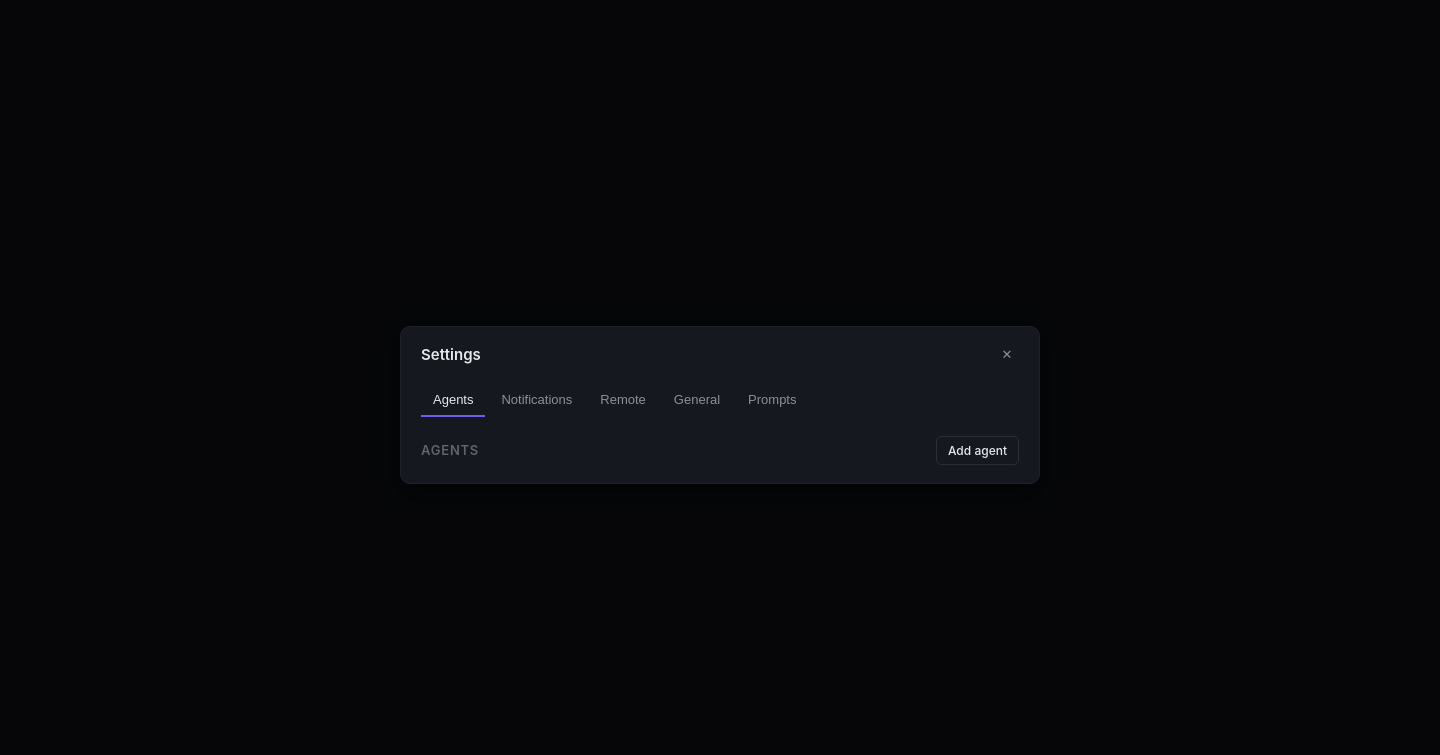
Test: SettingsModal › surfaces upsertCustomAgent errors in the UI
Click the button "Add agent" at [977, 450], box [936,436,1019,465]
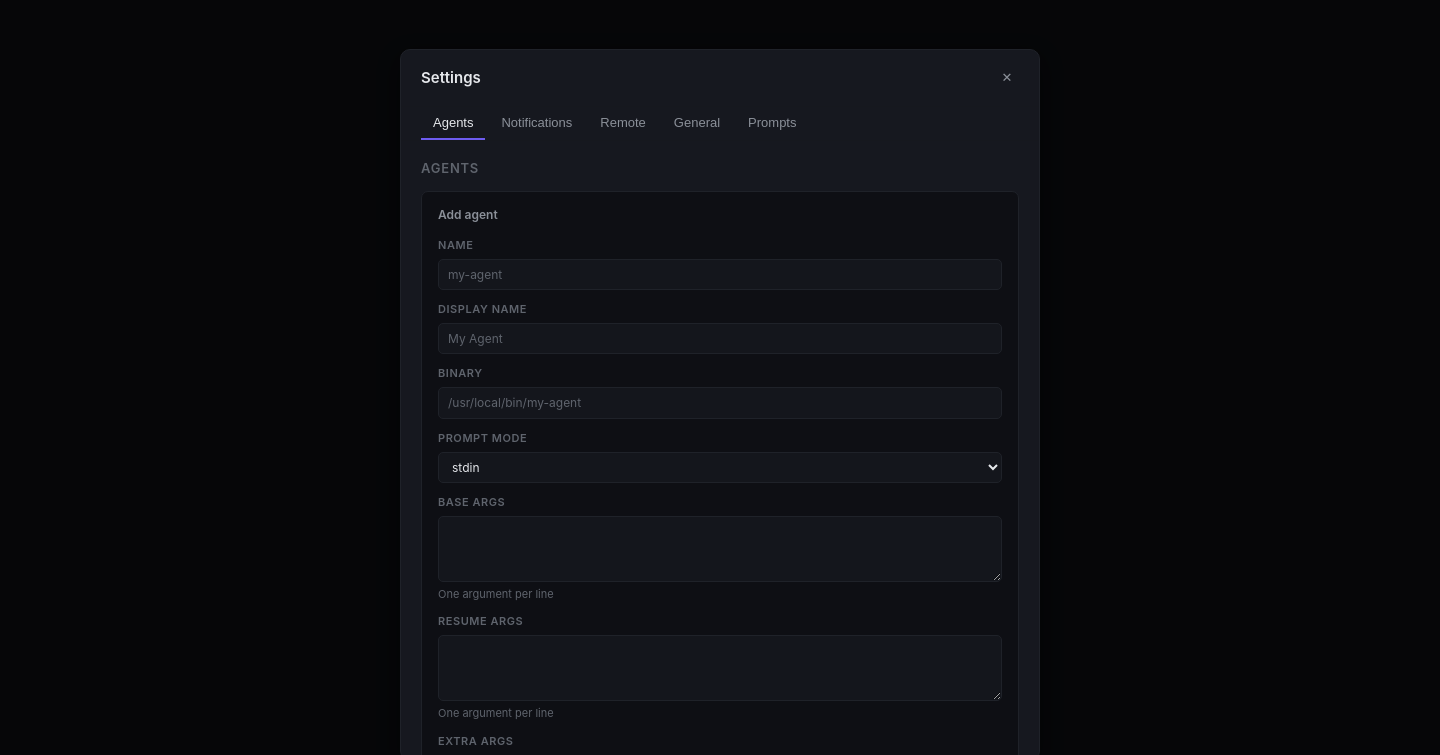
Type "claude" into the field labelled "Name" at [720, 274], box [438,259,1002,290]
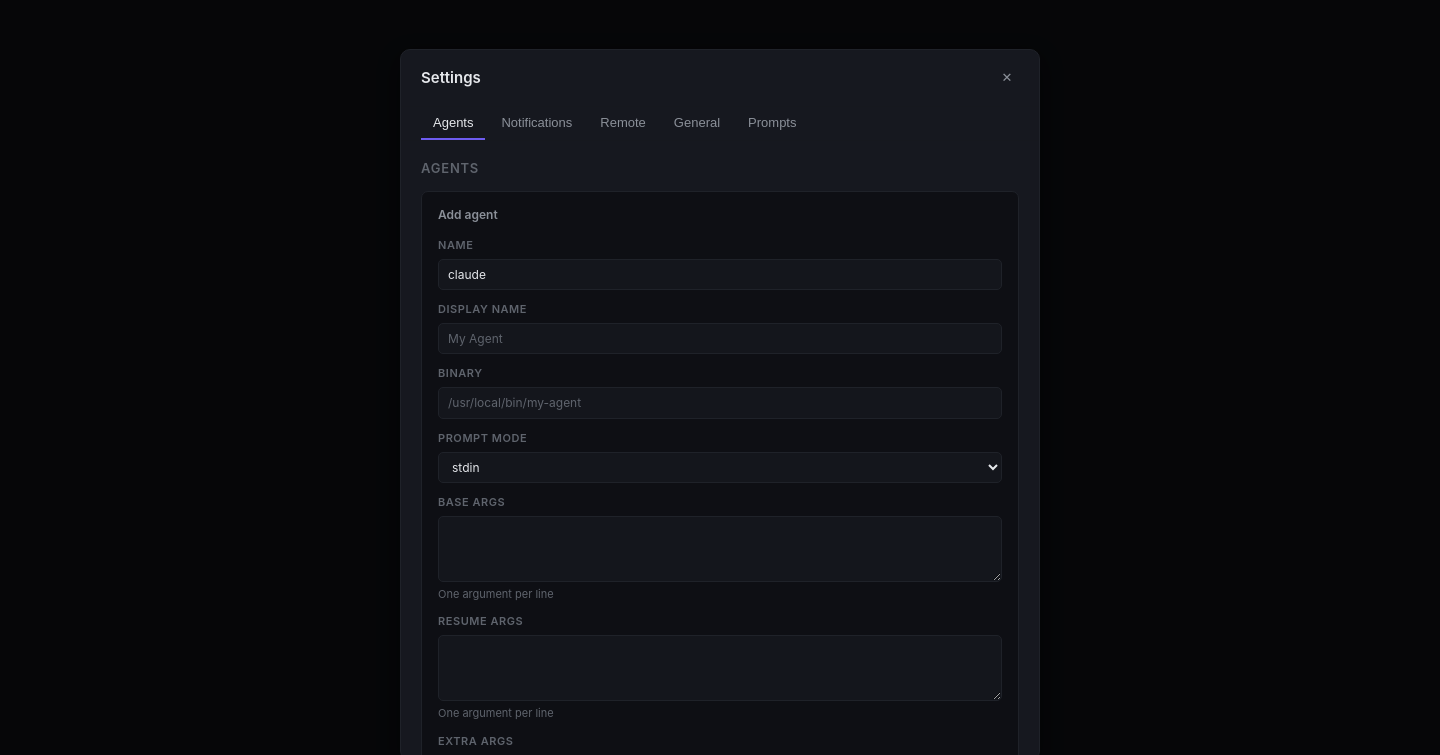
Type "claude" into the field labelled "Binary" at [720, 403], box [438,387,1002,419]
(page scrolled)
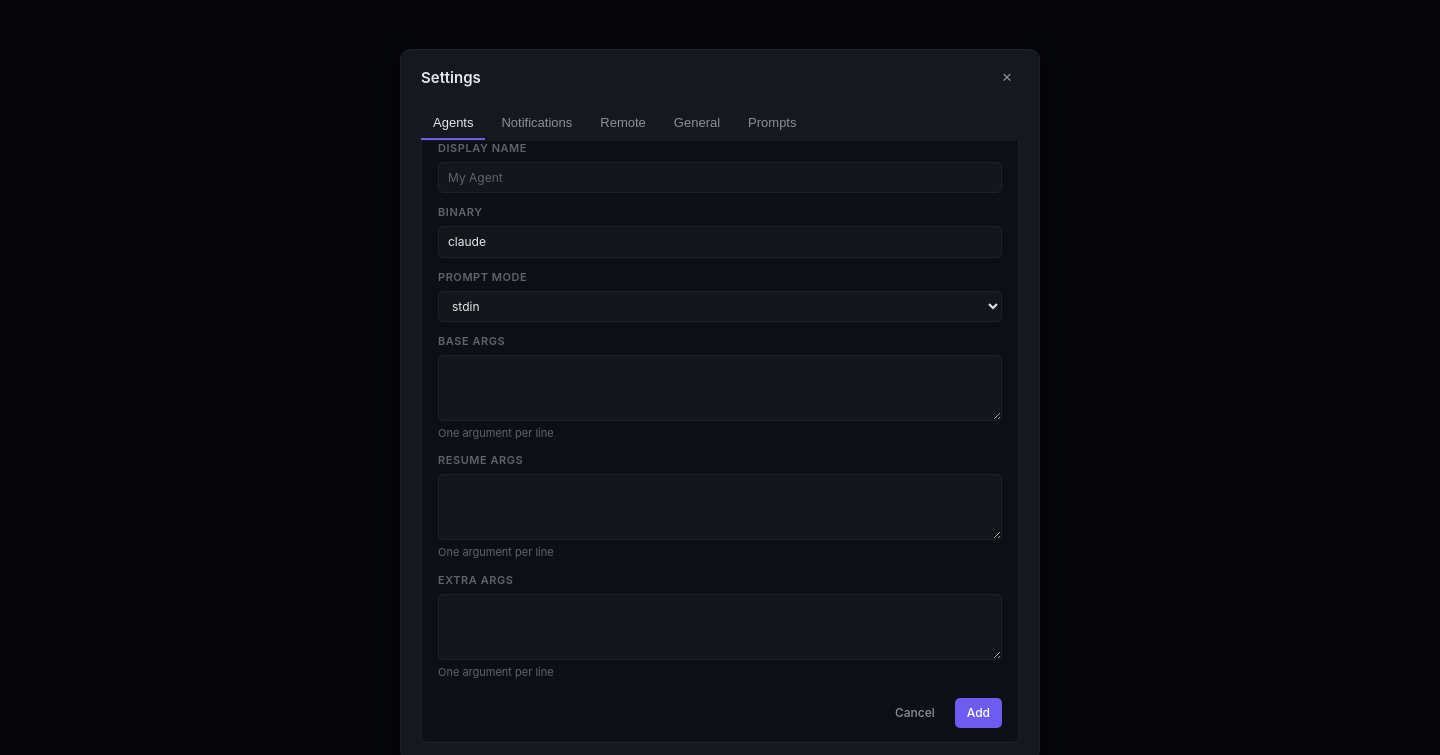
Click the button "Add" at [978, 713], box [955,698,1002,728]
(page scrolled)
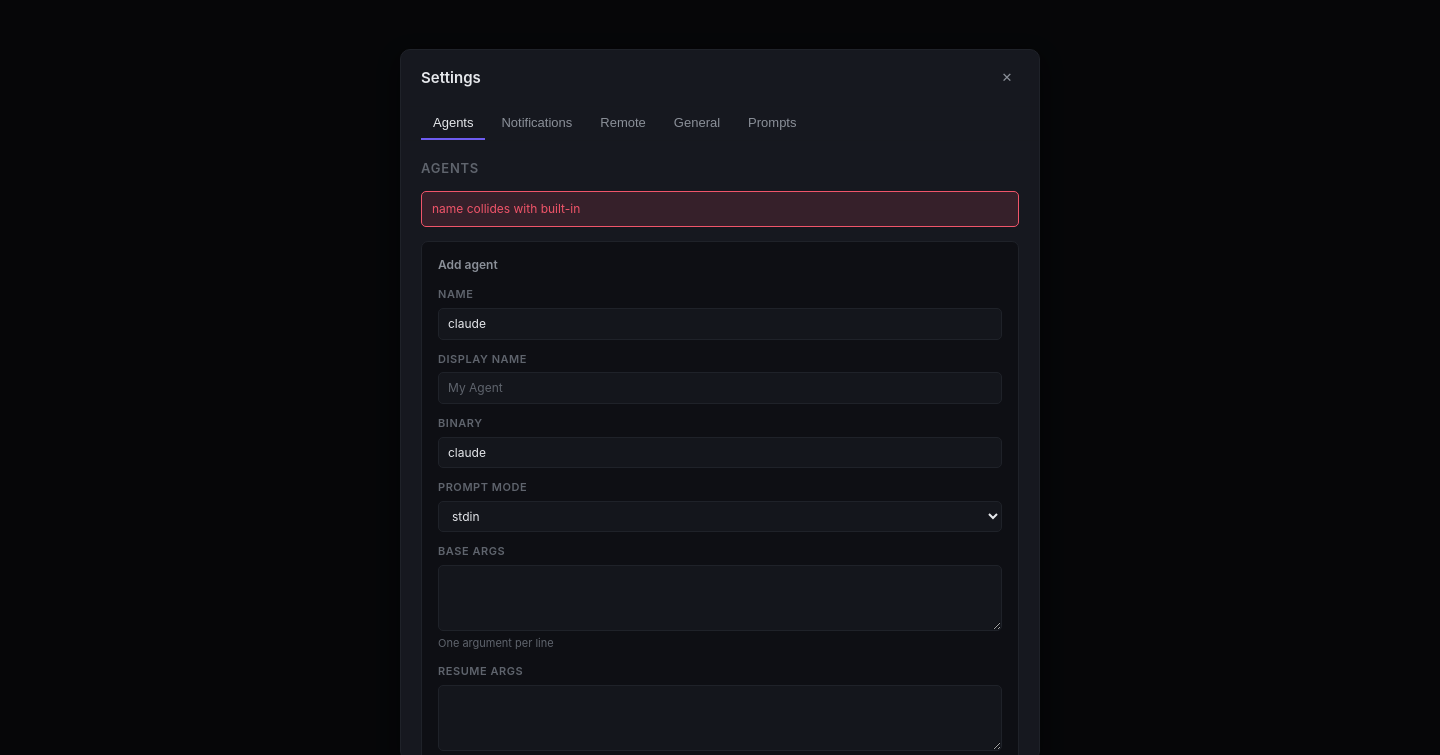
Expected: the text "name collides with built-in" is shown, [421,191,1019,227]
